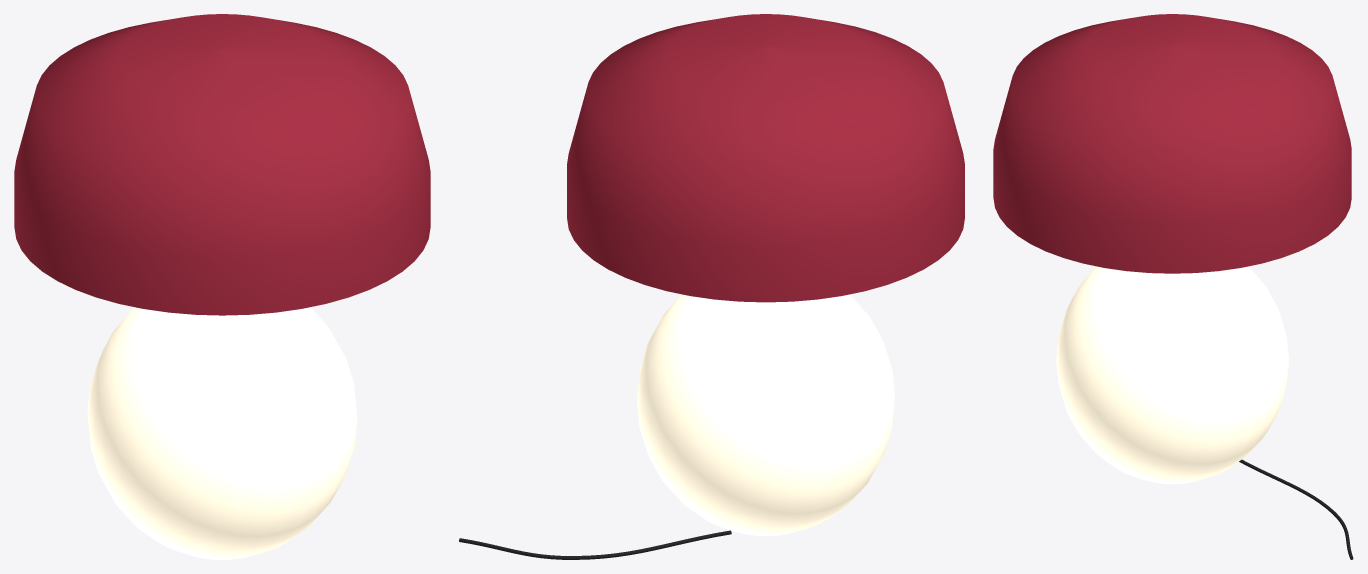
File: ref02_04.glb
3 views of the same model, side by side, from view 1: azimuth 30°, elevation 25°; view 2: azimuth 150°, elevation 25°; view 3: azimuth 270°, elevation 25° (orthographic). The views are drawn at different scales.
Visible parts, largest first — view 1: ref02_04; view 2: ref02_04; view 3: ref02_04.
Part boxes in pixels (left/top/right/bottom): ref02_04: left=14, top=14, right=430, bottom=559; ref02_04: left=459, top=14, right=964, bottom=559; ref02_04: left=993, top=14, right=1353, bottom=559.
Bounding box in the file's own units: 0.4403 × 0.53 × 0.402.
